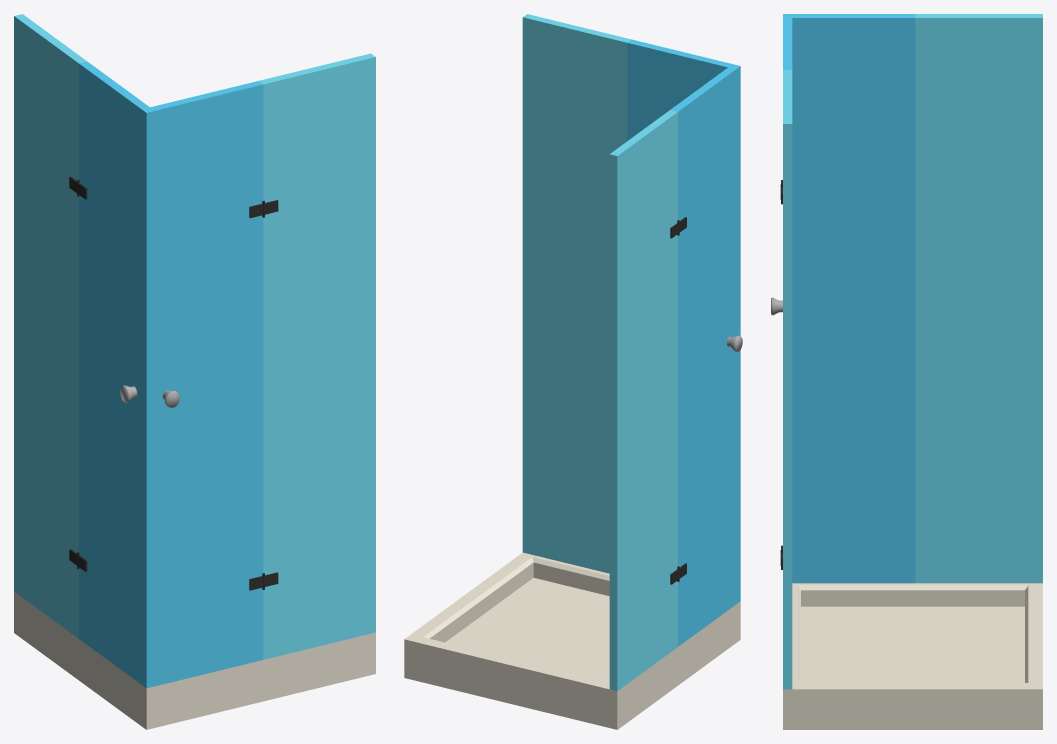
The model's file is Prop_Bath_05.fbx.
The picture shows the model from 3 angles, left to right: view 1: azimuth 30°, elevation 25°; view 2: azimuth 150°, elevation 25°; view 3: azimuth 270°, elevation 25°; orthographic projection. The views are drawn at different scales.
Visible parts, largest first — view 1: Prop_Bath_05; view 2: Prop_Bath_05; view 3: Prop_Bath_05.
Part boxes in pixels (x1,y1,x2,y2): Prop_Bath_05: (14, 14, 375, 729); Prop_Bath_05: (404, 14, 742, 729); Prop_Bath_05: (771, 14, 1042, 729).
Size of the model in its own units: 90.93 by 224 by 90.93.
